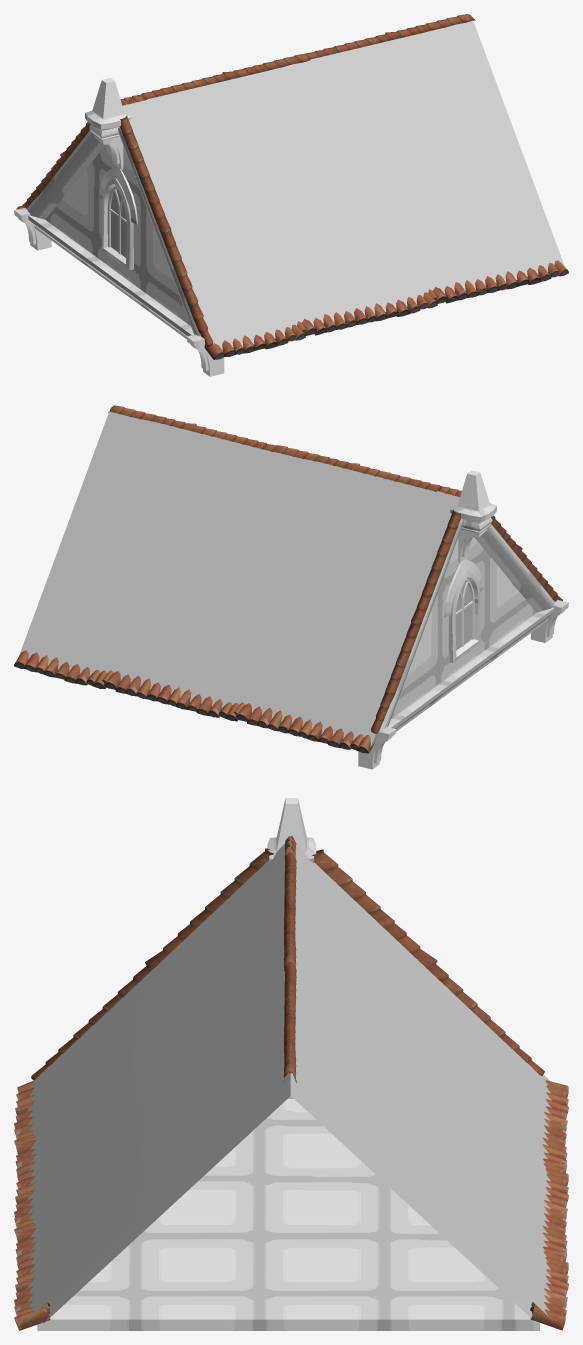
Rendered from SM_BlacksmithS_Roof_A_GlassWindow.fbx.
3 renders of one model, top to bottom at view 1: azimuth 30°, elevation 25°; view 2: azimuth 150°, elevation 25°; view 3: azimuth 270°, elevation 25°, orthographic. The views are drawn at different scales.
Parts seen in each view (by area): view 1: SM_BlacksmithS_Roof_A_GlassWindow_LOD0; view 2: SM_BlacksmithS_Roof_A_GlassWindow_LOD0; view 3: SM_BlacksmithS_Roof_A_GlassWindow_LOD0.
Part boxes in pixels (x1,y1,x2,y2): SM_BlacksmithS_Roof_A_GlassWindow_LOD0: [14, 14, 568, 376]; SM_BlacksmithS_Roof_A_GlassWindow_LOD0: [14, 405, 568, 769]; SM_BlacksmithS_Roof_A_GlassWindow_LOD0: [14, 798, 568, 1330].
Size of what is drawn, in the model's own units: 12.35 by 7.17 by 11.23.
